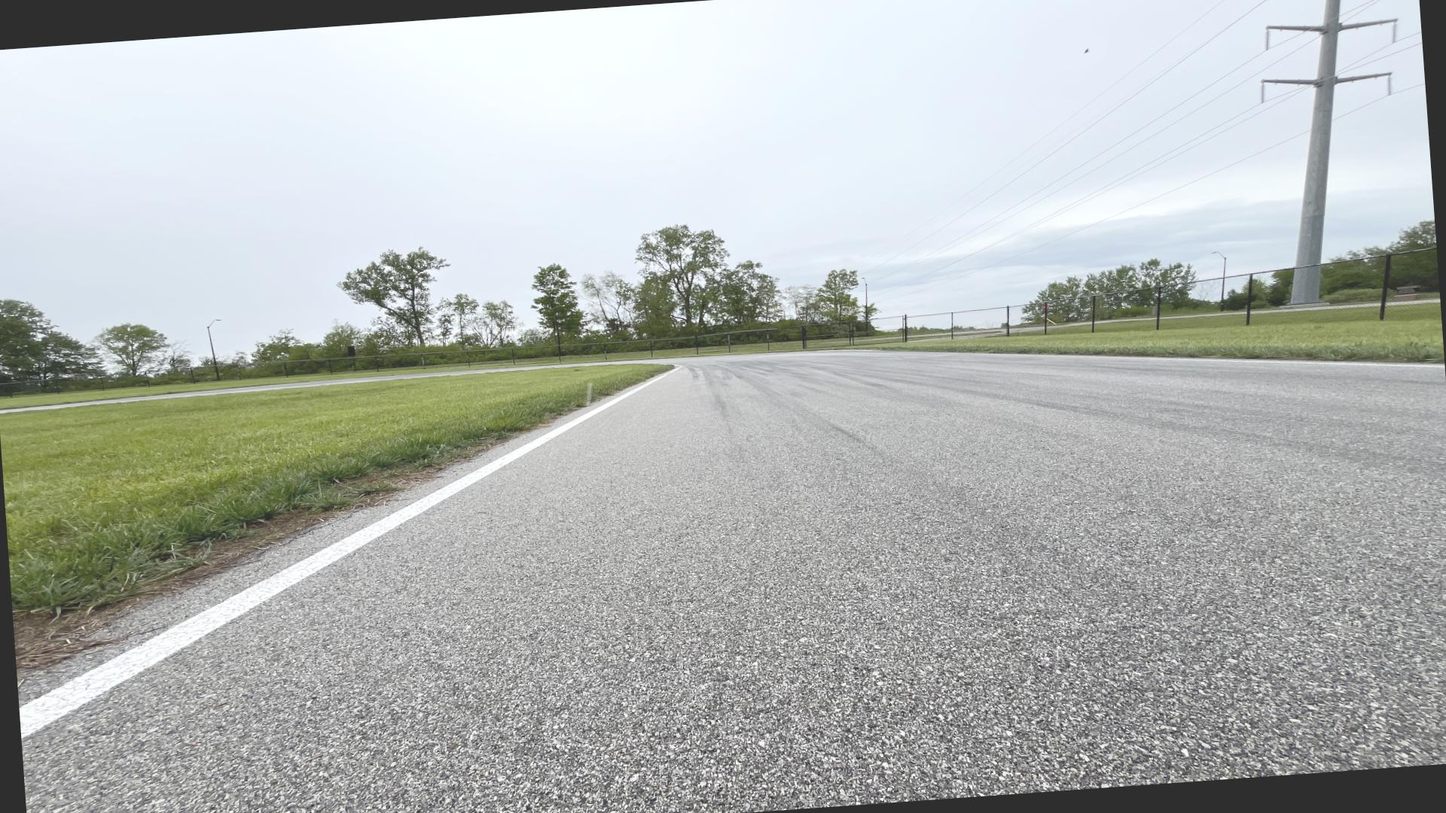white-line: (20, 364, 682, 742), (939, 353, 1444, 368)
